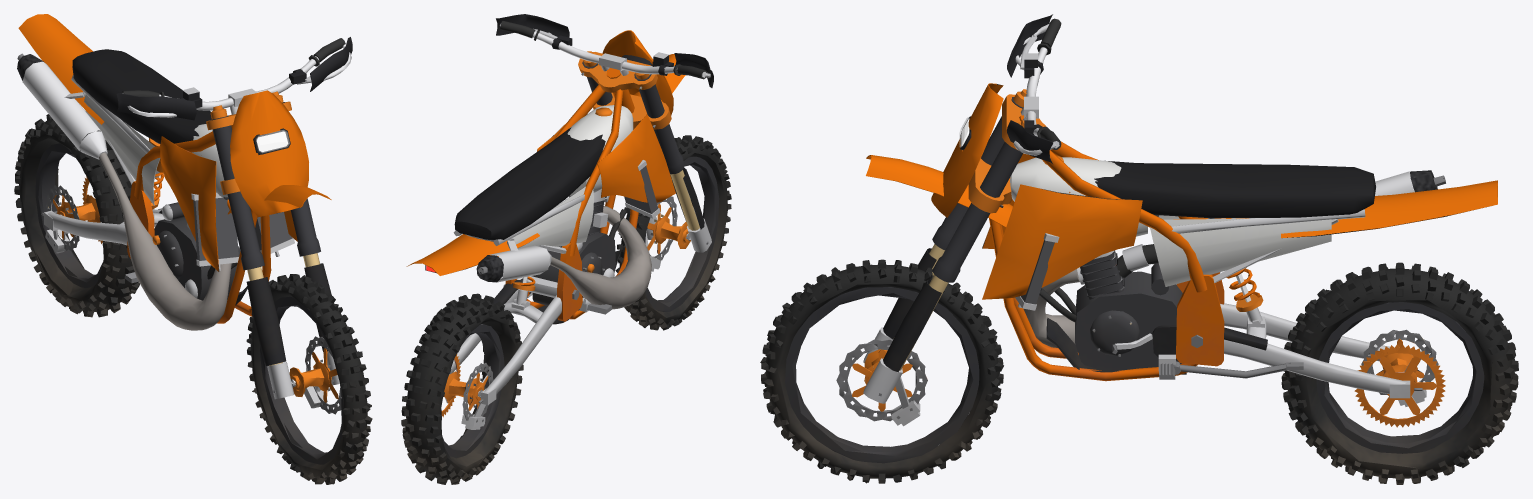
The model's file is enduro-300-XU1pxO5Y.glb.
3 renders of one model, left to right at view 1: azimuth 30°, elevation 25°; view 2: azimuth 150°, elevation 25°; view 3: azimuth 270°, elevation 25°, orthographic. The views are drawn at different scales.
Visible parts, largest first — view 1: SM_Enduro_Body_LOD3, SM_Enduro_Steering_LOD3, SM_Enduro_WheelRear_LOD3, SM_Enduro_WheelFront_LOD3, SM_Enduro_ForkLower_LOD3, SM_Enduro_Swingarm_LOD3; view 2: SM_Enduro_Body_LOD3, SM_Enduro_WheelRear_LOD3, SM_Enduro_Steering_LOD3, SM_Enduro_WheelFront_LOD3, SM_Enduro_Swingarm_LOD3, SM_Enduro_ForkLower_LOD3; view 3: SM_Enduro_Body_LOD3, SM_Enduro_WheelRear_LOD3, SM_Enduro_WheelFront_LOD3, SM_Enduro_Steering_LOD3, SM_Enduro_Swingarm_LOD3, SM_Enduro_ForkLower_LOD3.
Part boxes in pixels (x1,y1,x2,y2): SM_Enduro_Body_LOD3: (17,14,297,330); SM_Enduro_Steering_LOD3: (116,37,352,270); SM_Enduro_WheelRear_LOD3: (14,114,139,317); SM_Enduro_WheelFront_LOD3: (246,274,372,484); SM_Enduro_ForkLower_LOD3: (246,253,339,408); SM_Enduro_Swingarm_LOD3: (41,193,164,253); SM_Enduro_Body_LOD3: (406,68,675,324); SM_Enduro_WheelRear_LOD3: (401,293,523,484); SM_Enduro_Steering_LOD3: (496,14,713,174); SM_Enduro_WheelFront_LOD3: (615,135,731,330); SM_Enduro_Swingarm_LOD3: (448,276,561,429); SM_Enduro_ForkLower_LOD3: (645,167,711,271); SM_Enduro_Body_LOD3: (982,115,1497,381); SM_Enduro_WheelRear_LOD3: (1281,262,1518,484); SM_Enduro_WheelFront_LOD3: (760,259,1003,483); SM_Enduro_Steering_LOD3: (866,14,1061,282); SM_Enduro_Swingarm_LOD3: (1220,273,1426,406); SM_Enduro_ForkLower_LOD3: (863,244,948,426).
Bounding box in the file's own units: 0.8758 × 1.27 × 2.17.
Materials: 2 (1 with a texture image).
